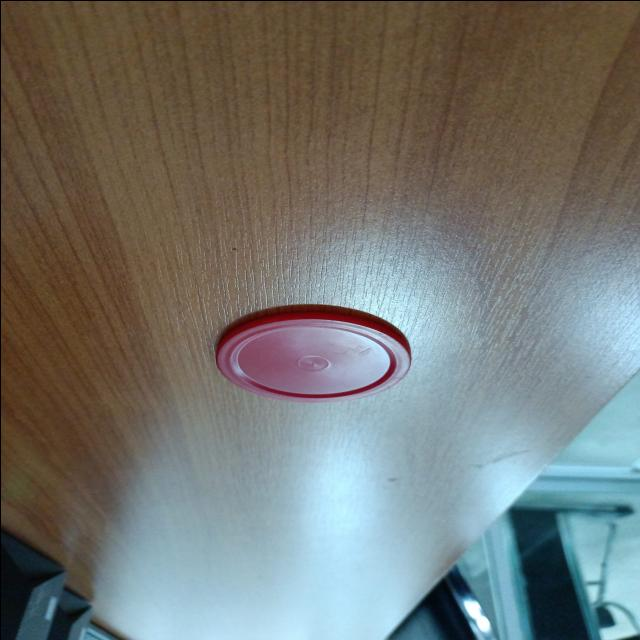chip: (209, 306, 417, 406)
